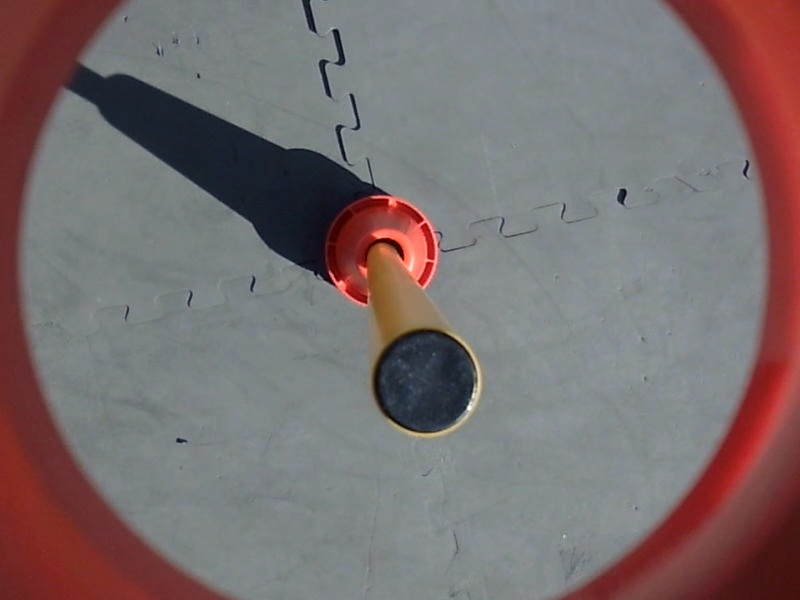tip: (368, 324, 487, 440)
